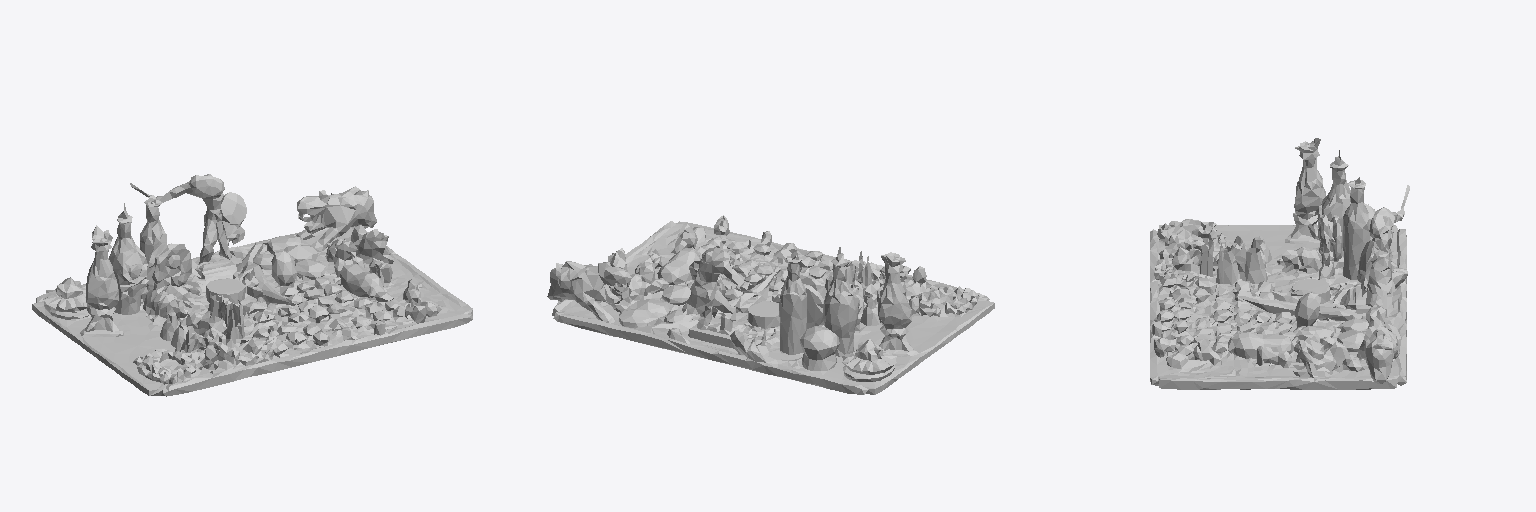
File: Market_Treasures_1124011838_texture.obj
3 renders of one model, left to right at view 1: azimuth 30°, elevation 25°; view 2: azimuth 150°, elevation 25°; view 3: azimuth 270°, elevation 25°, orthographic.
Visible parts, largest first — view 1: Market_Treasures_[number redacted]_texture; view 2: Market_Treasures_[number redacted]_texture; view 3: Market_Treasures_[number redacted]_texture.
Part boxes in pixels (x1,y1,x2,y2): Market_Treasures_[number redacted]_texture: (32,174,472,396); Market_Treasures_[number redacted]_texture: (547,215,994,394); Market_Treasures_[number redacted]_texture: (1150,138,1409,389).
Bounding box in the file's own units: 1.53 × 0.5 × 1.02.